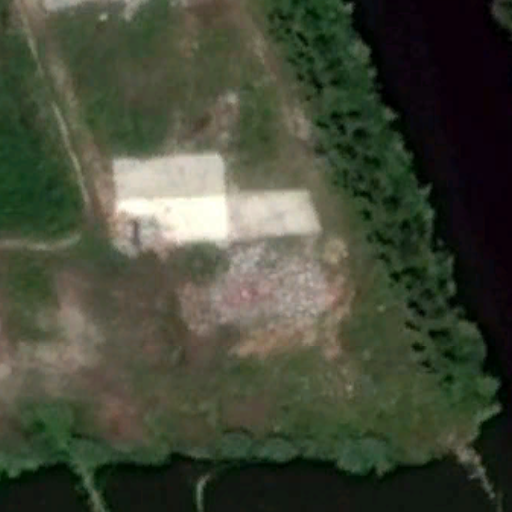msw: (200, 242, 337, 331)
